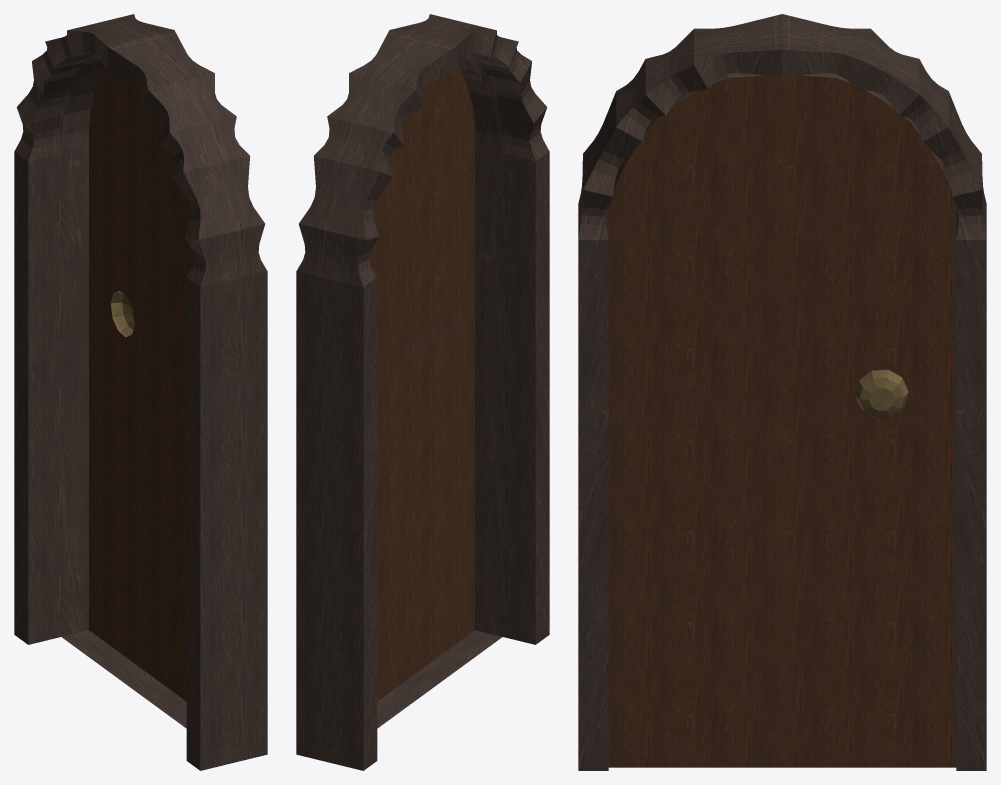
Rendered from SM_Door.fbx.
The picture shows the model from 3 angles, left to right: view 1: azimuth 30°, elevation 25°; view 2: azimuth 150°, elevation 25°; view 3: azimuth 270°, elevation 25°; orthographic projection. The views are drawn at different scales.
Parts seen in each view (by area): view 1: SM_Door; view 2: SM_Door; view 3: SM_Door.
Boxes of the visible parts, left/top/right/bottom form: SM_Door: left=14, top=14, right=267, bottom=770; SM_Door: left=296, top=14, right=549, bottom=770; SM_Door: left=578, top=14, right=986, bottom=770.
Size of the model in its own units: 22.7 by 195 by 100.
